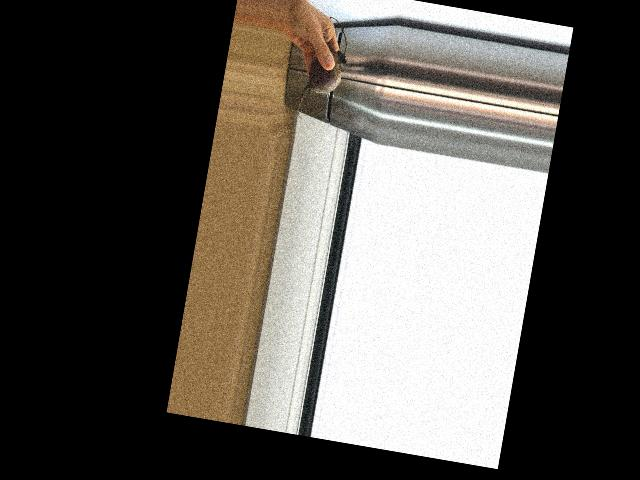beet: (295, 14, 353, 127)
